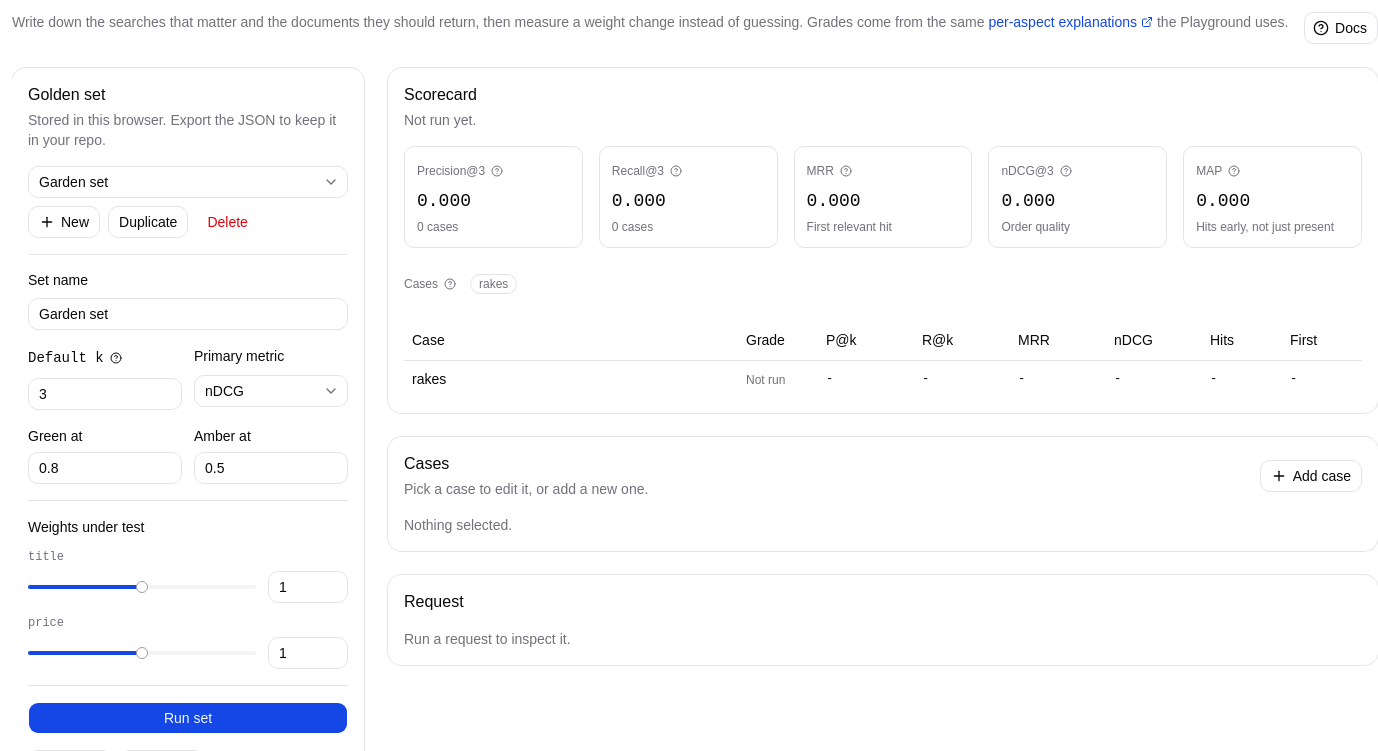
Test case: IndexScorecardPage › runs the set and grades each case
Step 1. Click the button "Run set" → (188, 718), box [28, 702, 348, 734]
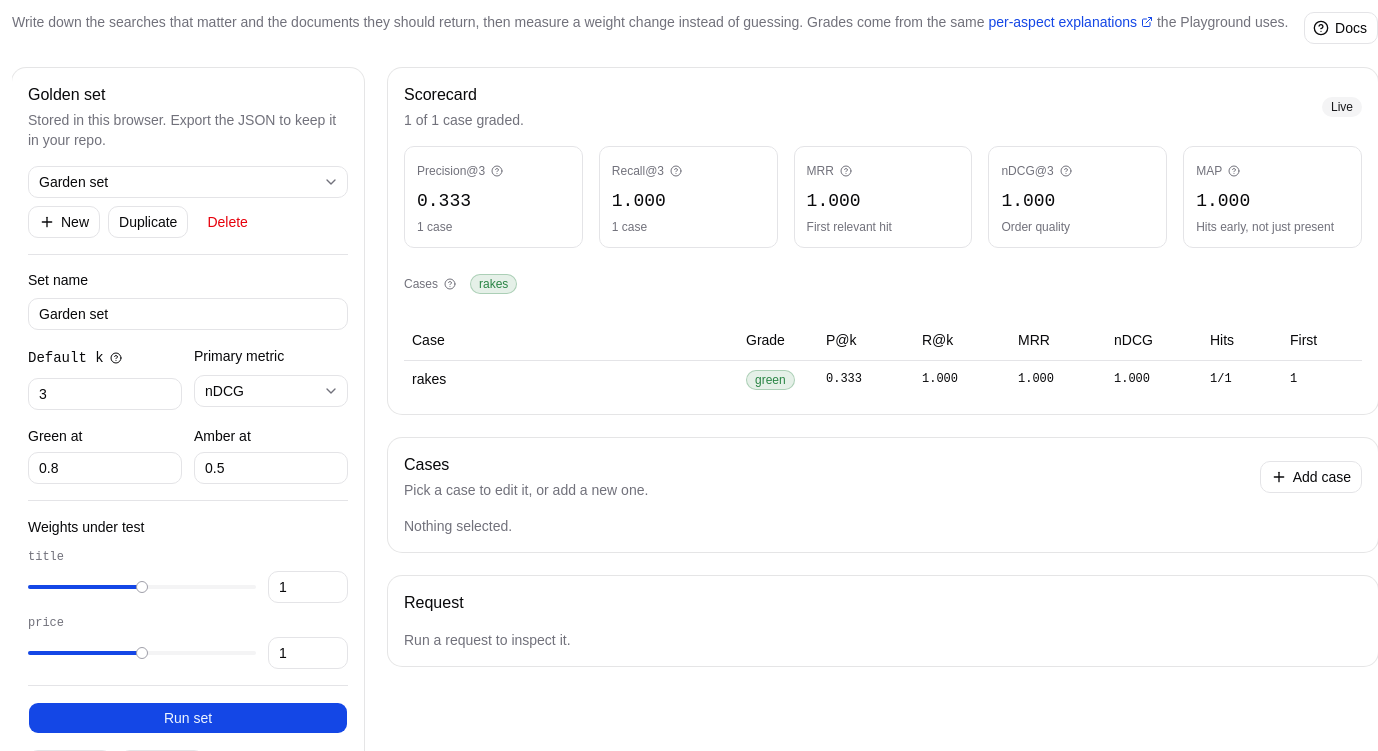
Expected: the icon "green" is shown, [746, 370, 795, 390]
Expected: the text "1 of 1 case graded." is shown, [404, 110, 524, 130]
